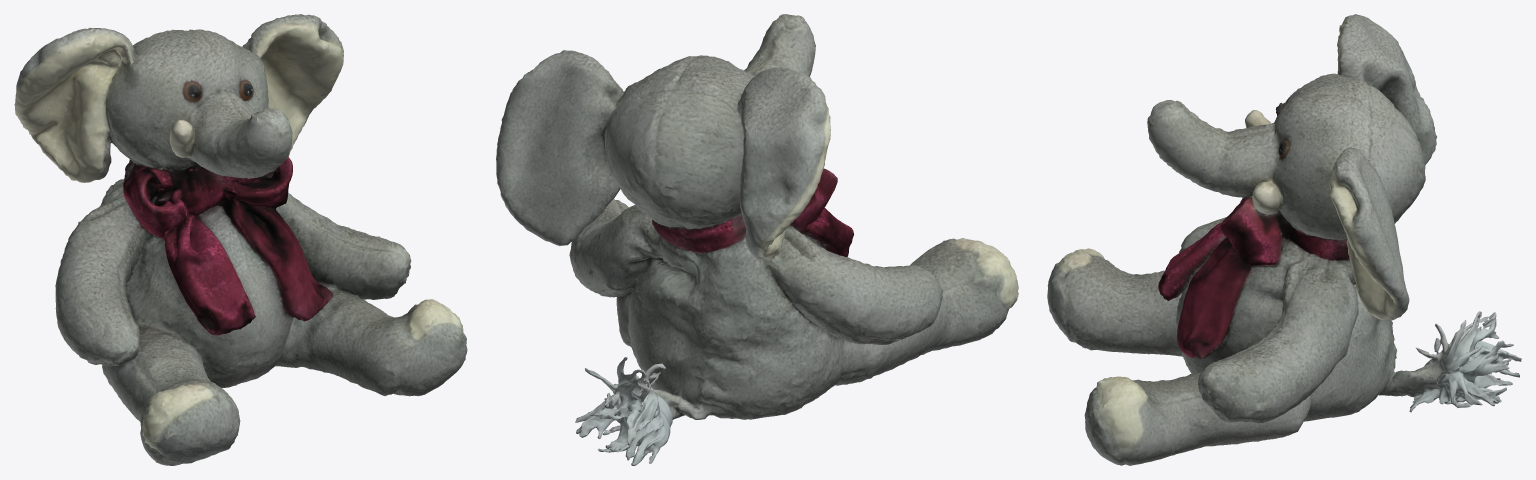
The picture shows the model from 3 angles, left to right: view 1: azimuth 30°, elevation 25°; view 2: azimuth 150°, elevation 25°; view 3: azimuth 270°, elevation 25°; orthographic projection. The views are drawn at different scales.
Parts seen in each view (by area): view 1: model; view 2: model; view 3: model.
Boxes of the visible parts, <box> form: model: <box>14,14,467,465</box>; model: <box>496,14,1018,465</box>; model: <box>1047,14,1521,465</box>.
Size of the model in its own units: 0.8236 by 0.7742 by 1.
1 material, 1 textured.
